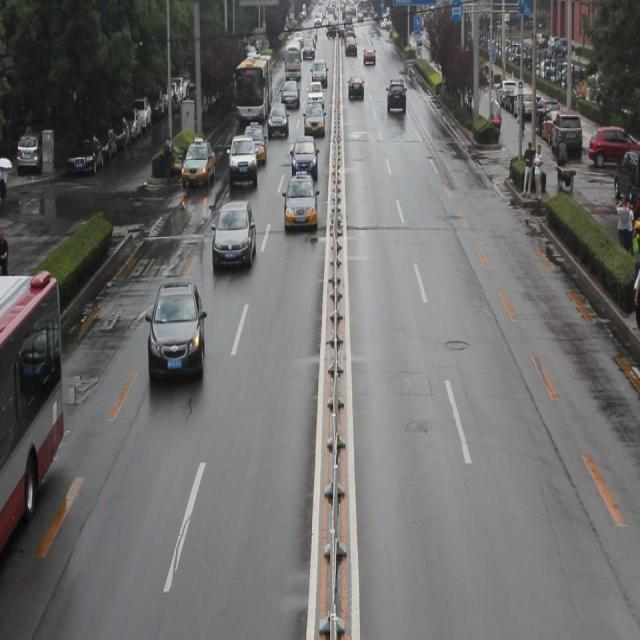car: (144, 277, 207, 386), (212, 200, 256, 270), (282, 174, 318, 229), (183, 134, 216, 184), (227, 134, 257, 186), (291, 136, 318, 180), (243, 123, 267, 165), (266, 105, 289, 139), (304, 103, 324, 138)
van: (1, 268, 63, 537), (237, 53, 272, 124)
